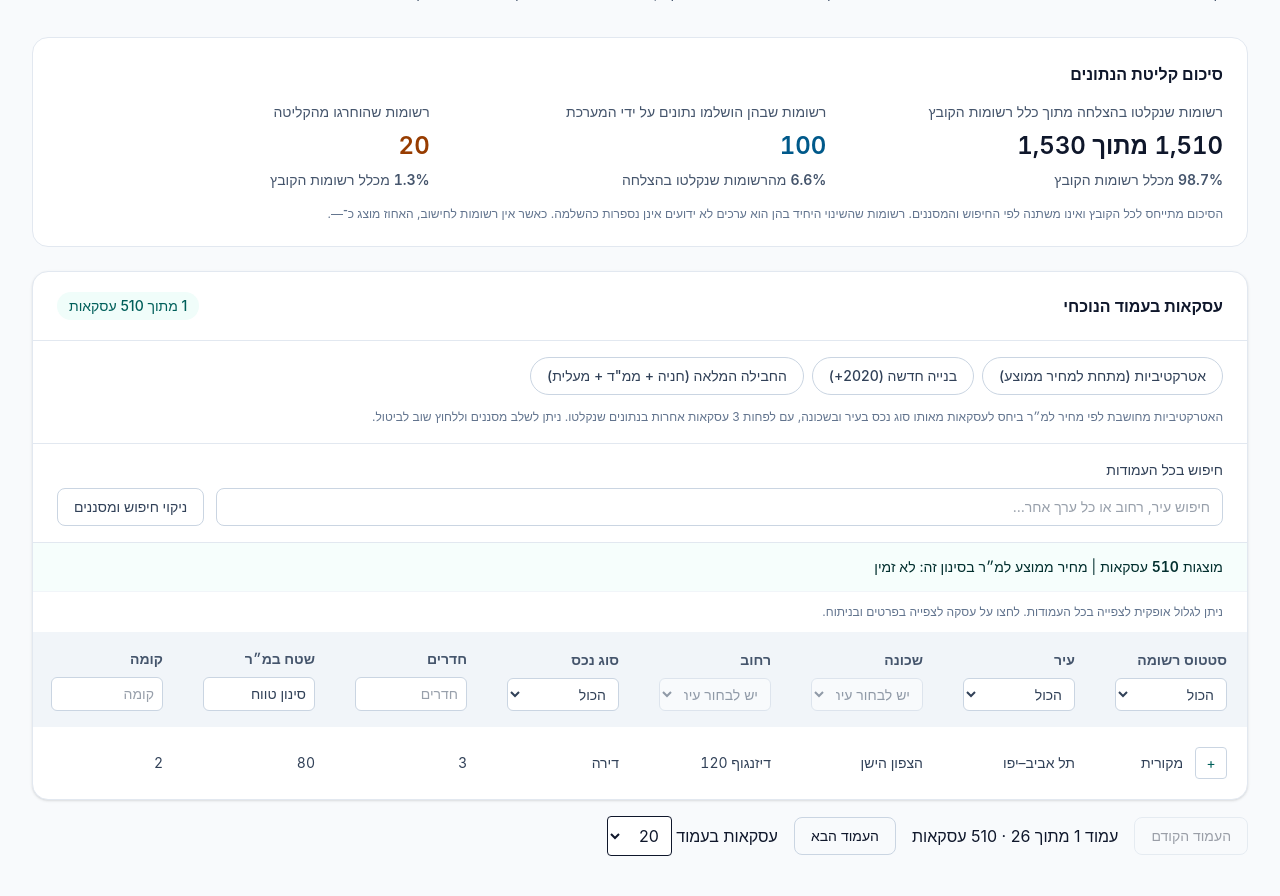
it: keeps import counts unchanged when table filters and pages change
(page scrolled)
Expected: the text "1,510 מתוך 1,530" is shown, x1=1017 y1=131 x2=1223 y2=160
Expected: the text "תל אביב–יפו" is shown, x1=1003 y1=754 x2=1075 y2=771
Select "תל אביב–יפו" in the dropdown named "סינון לפי עיר" at (1019, 694), box x1=963 y1=678 x2=1075 y2=710
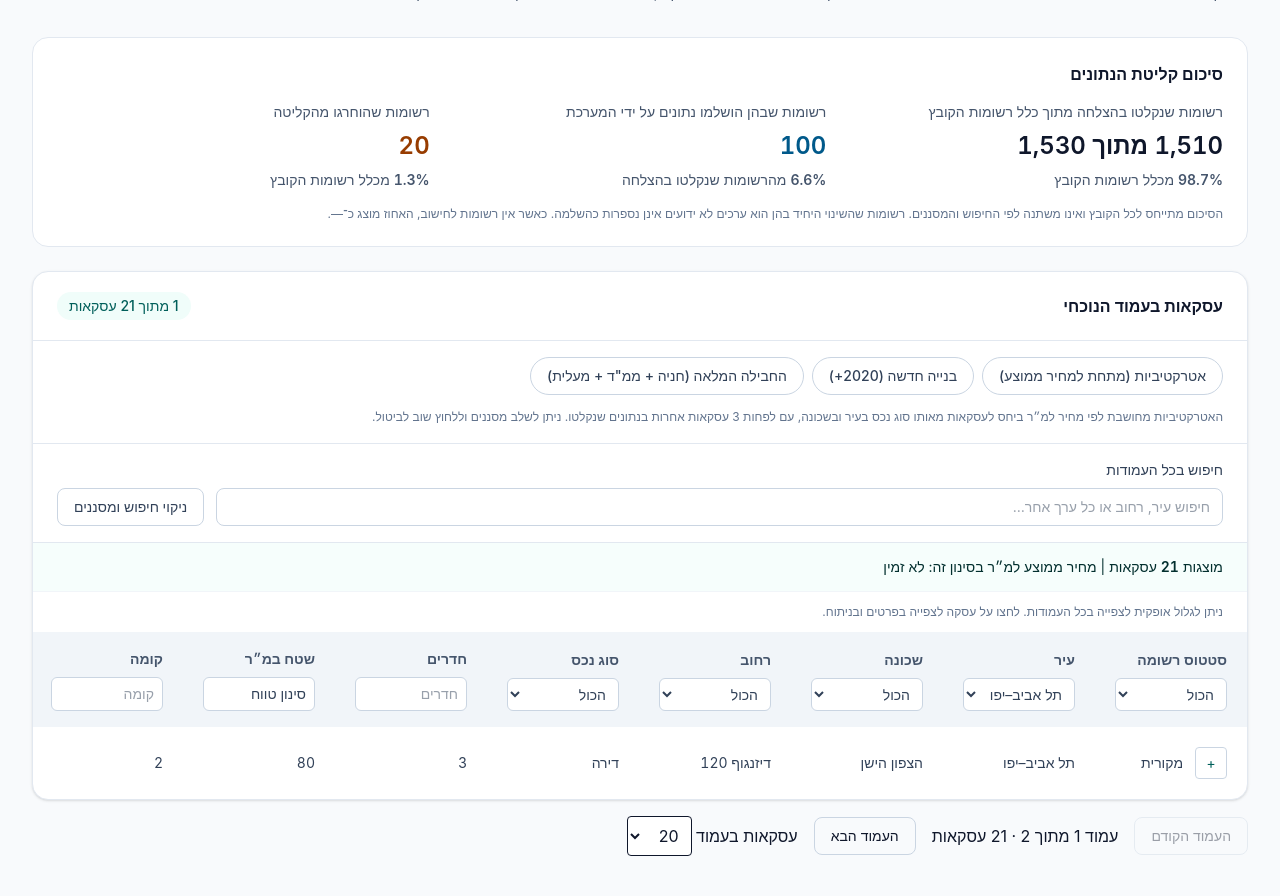
Expected: the text "עמוד 1 מתוך 2 · 21 עסקאות" is shown, x1=932 y1=824 x2=1118 y2=848
Click the button "העמוד הבא" at (865, 836), box x1=814 y1=817 x2=916 y2=855
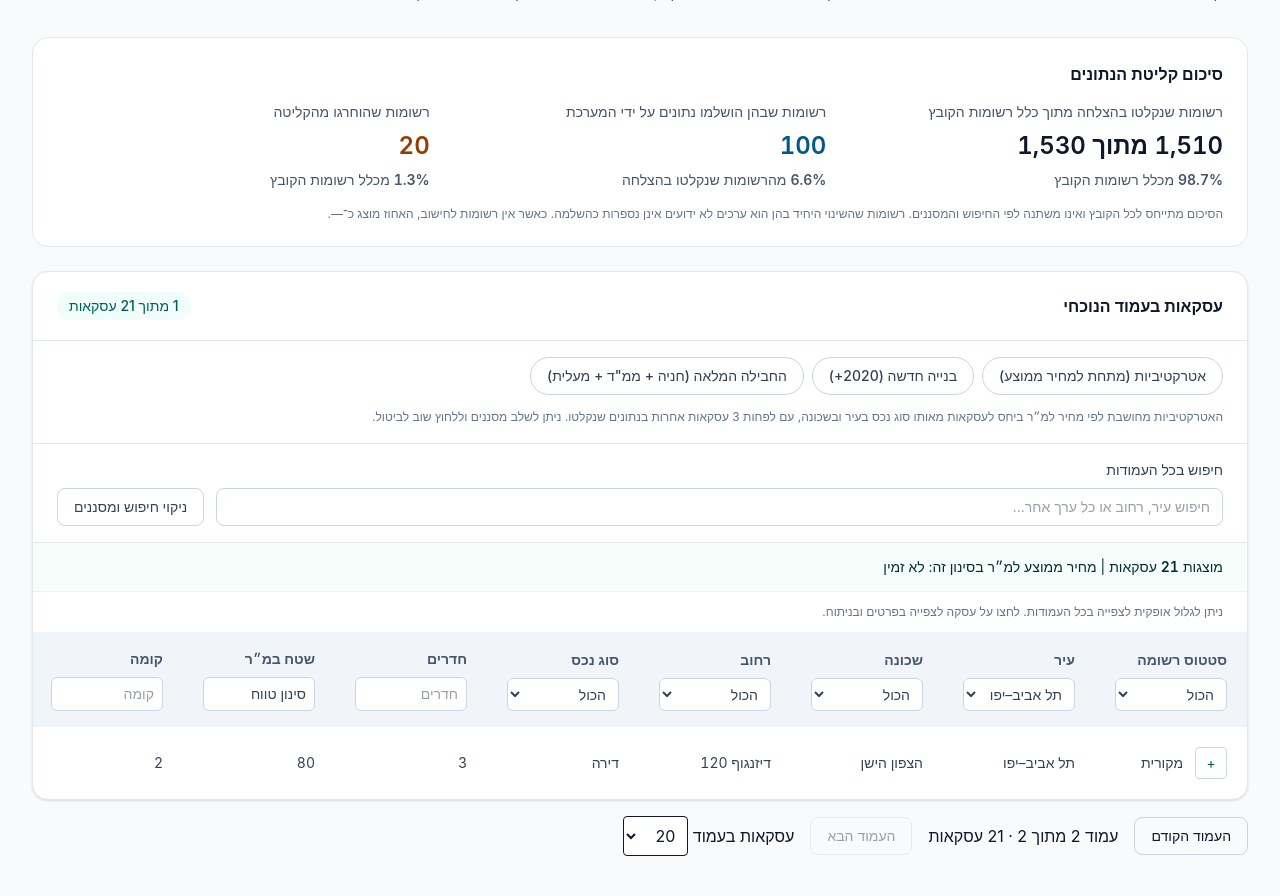
Expected: the text "1,510 מתוך 1,530" is shown, x1=1017 y1=131 x2=1223 y2=160
Expected: the text "עמוד 2 מתוך 2 · 21 עסקאות" is shown, x1=928 y1=824 x2=1118 y2=848
